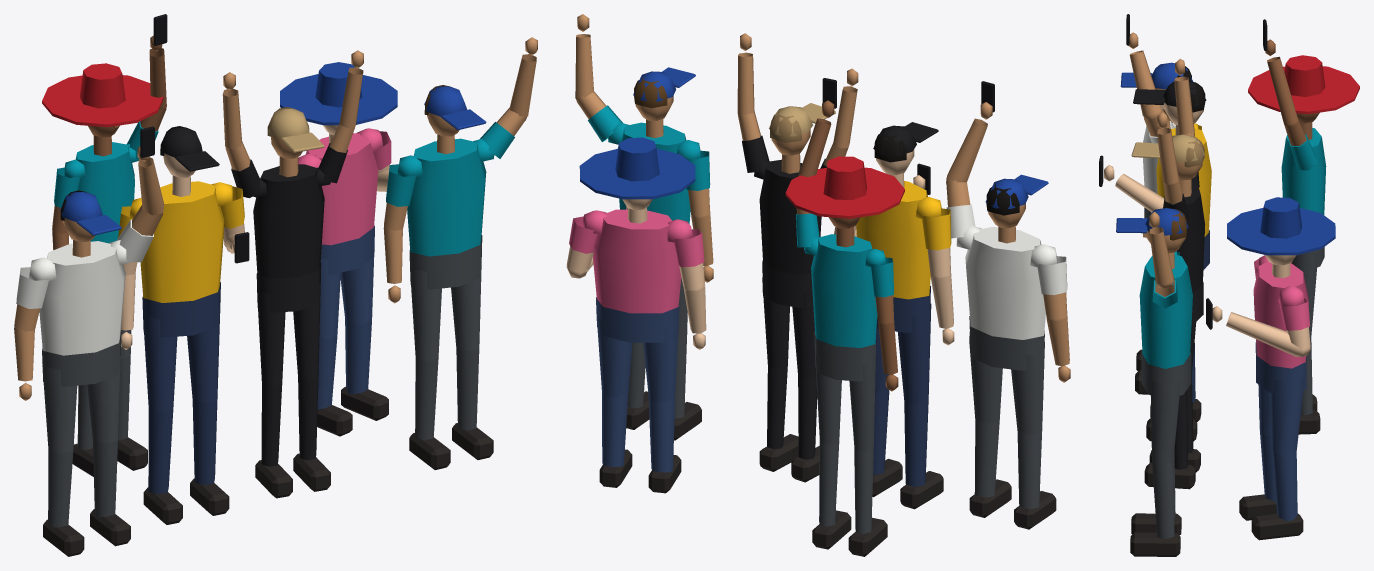
File: crowd_e.dae
3 views of the same model, side by side, from view 1: azimuth 30°, elevation 25°; view 2: azimuth 150°, elevation 25°; view 3: azimuth 270°, elevation 25° (orthographic). The views are drawn at different scales.
Visible parts, largest first — view 1: marker; view 2: marker; view 3: marker.
Part boxes in pixels (box(x1,y1,x2,y2)): marker: box(14, 14, 537, 556); marker: box(566, 14, 1070, 556); marker: box(1099, 14, 1359, 556).
Size of the model in its own units: 2.62 by 1.25 by 2.22.
Materials: 1 (1 with a texture image).
